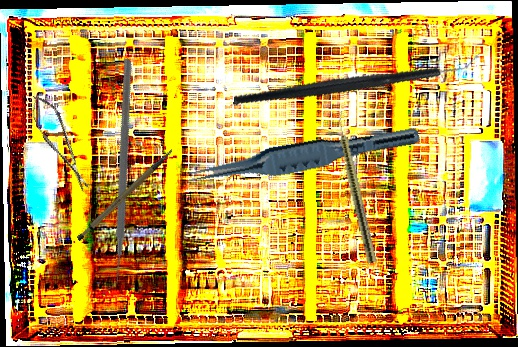Chopper: (7, 57, 224, 296), (232, 4, 481, 153)
Handpiece: (332, 110, 379, 264)
Micro Scissor: (25, 89, 95, 198)
Scalpel Handle: (66, 148, 186, 244)
Tissue Forceps: (185, 113, 421, 197)
